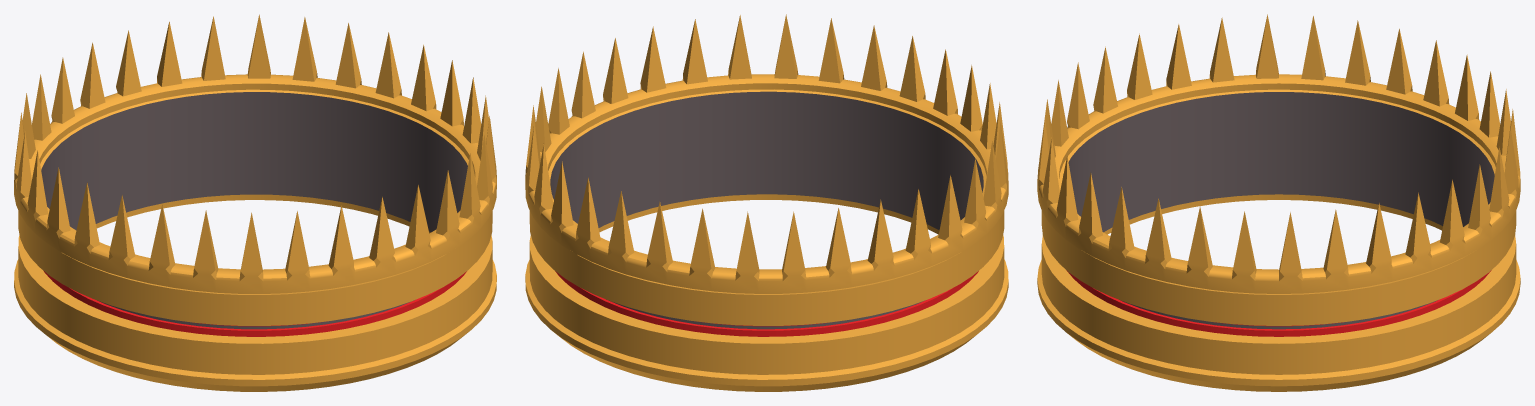
The model's file is crown.fbx.
3 views of the same model, side by side, from view 1: azimuth 30°, elevation 25°; view 2: azimuth 150°, elevation 25°; view 3: azimuth 270°, elevation 25° (orthographic).
Visible parts, largest first — view 1: Circle; view 2: Circle; view 3: Circle.
Boxes of the visible parts, x1,y1,x2,y2 form: Circle: (14, 14, 496, 391); Circle: (525, 14, 1008, 391); Circle: (1037, 14, 1520, 391).
Size of the model in its own units: 7.07 by 7.07 by 2.94.
